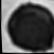correct: (3, 0, 54, 54)
